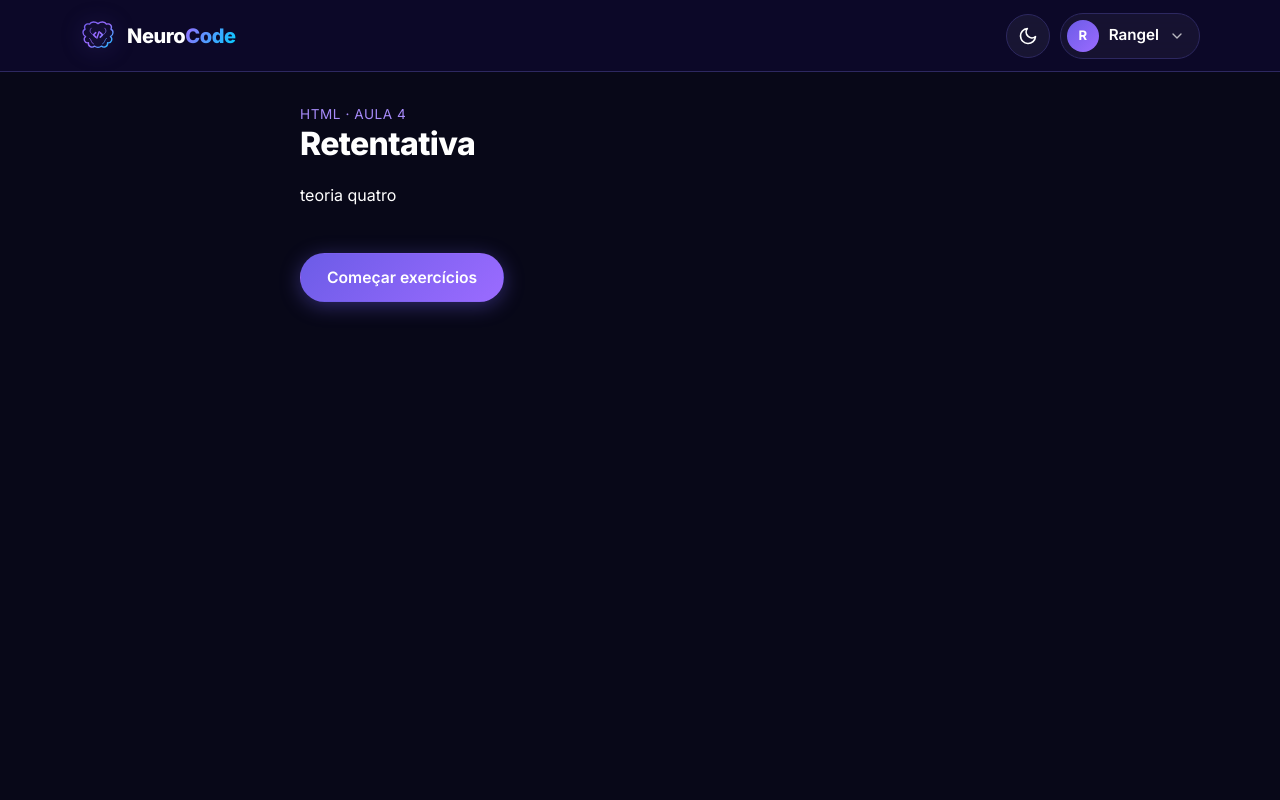
Tela de Aula — sessão de exercícios › errar e avançar reseta o card e permite refazer (não trava)
What coordinates should you click on to do the following:
click the button "Começar exercícios"
I would click on:
 (402, 278)
Its box is [300,253,504,302].
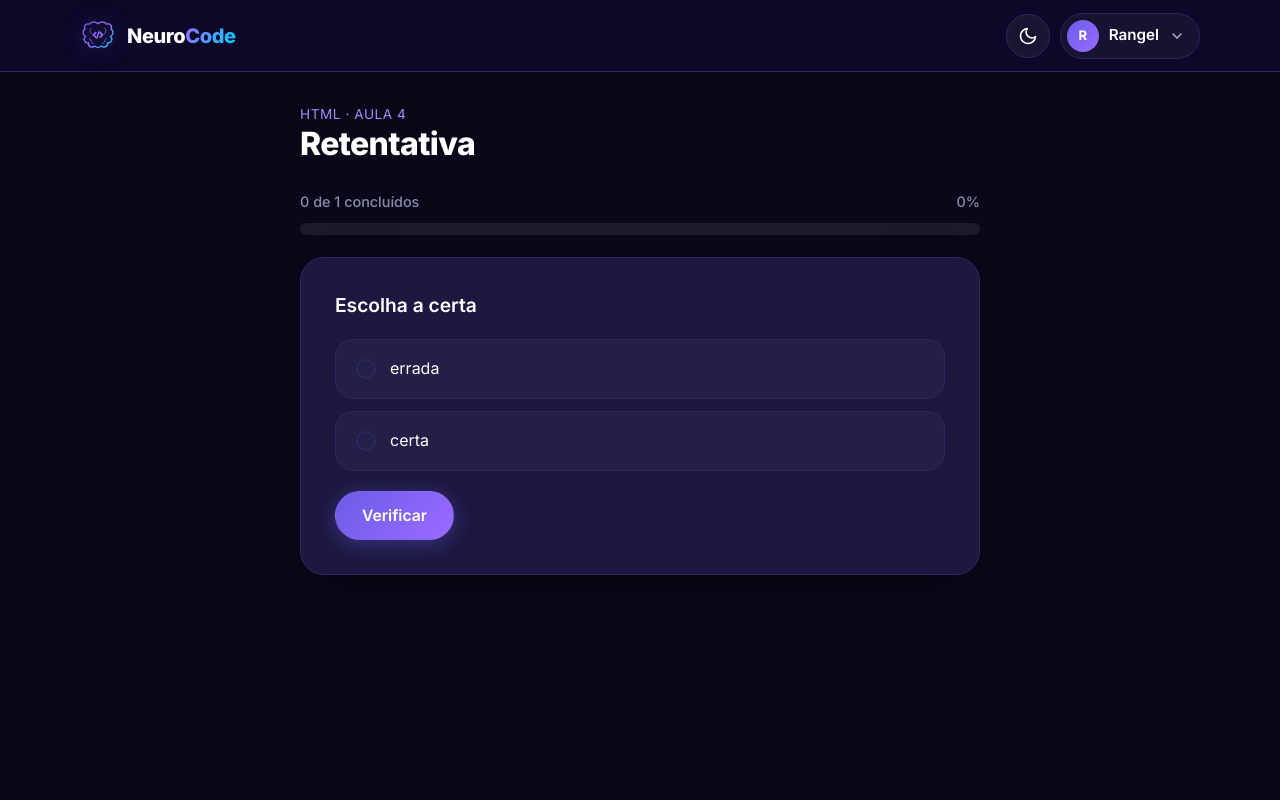
// erra de propósito
What coordinates should you click on to do the following:
click the button "errada"
I would click on:
 (415, 368)
Its box is [335,340,945,399].
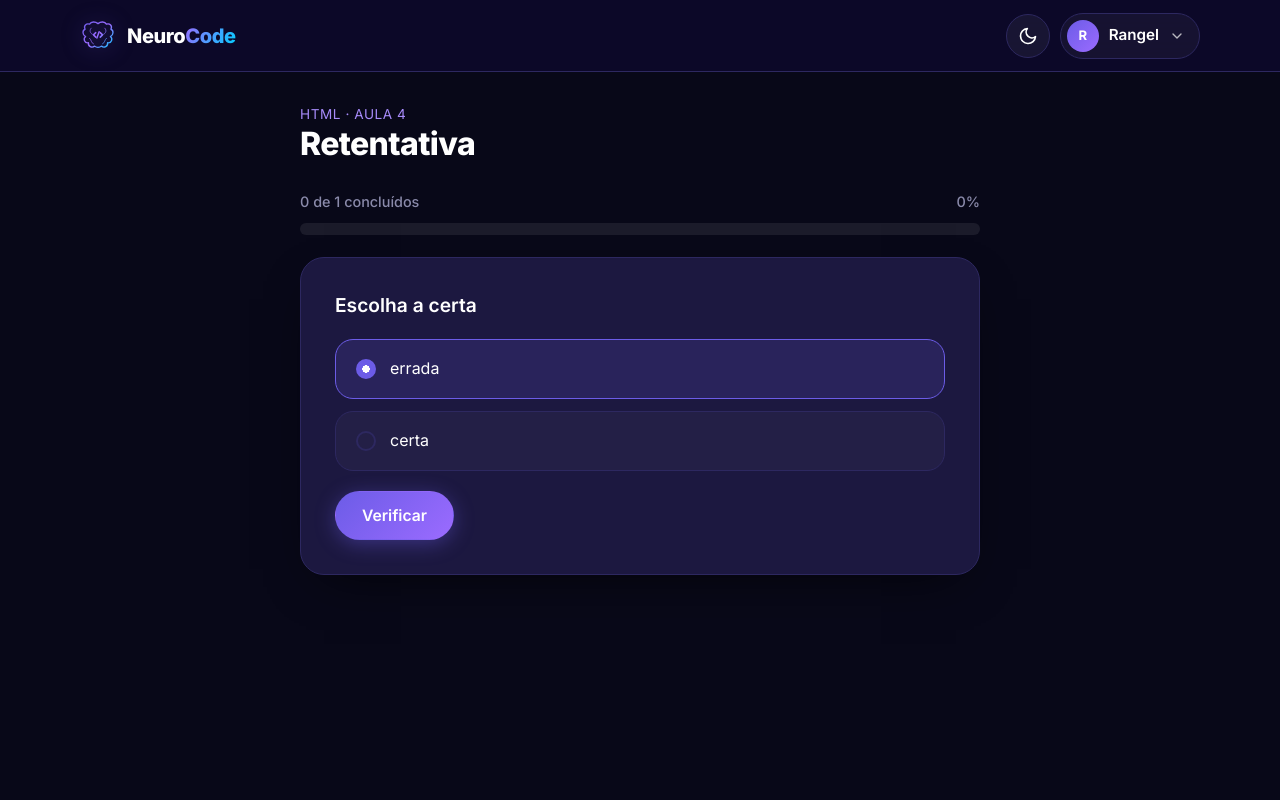
What coordinates should you click on to do the following:
click the button "Verificar"
I would click on:
 (394, 516)
Its box is [335,491,454,540].
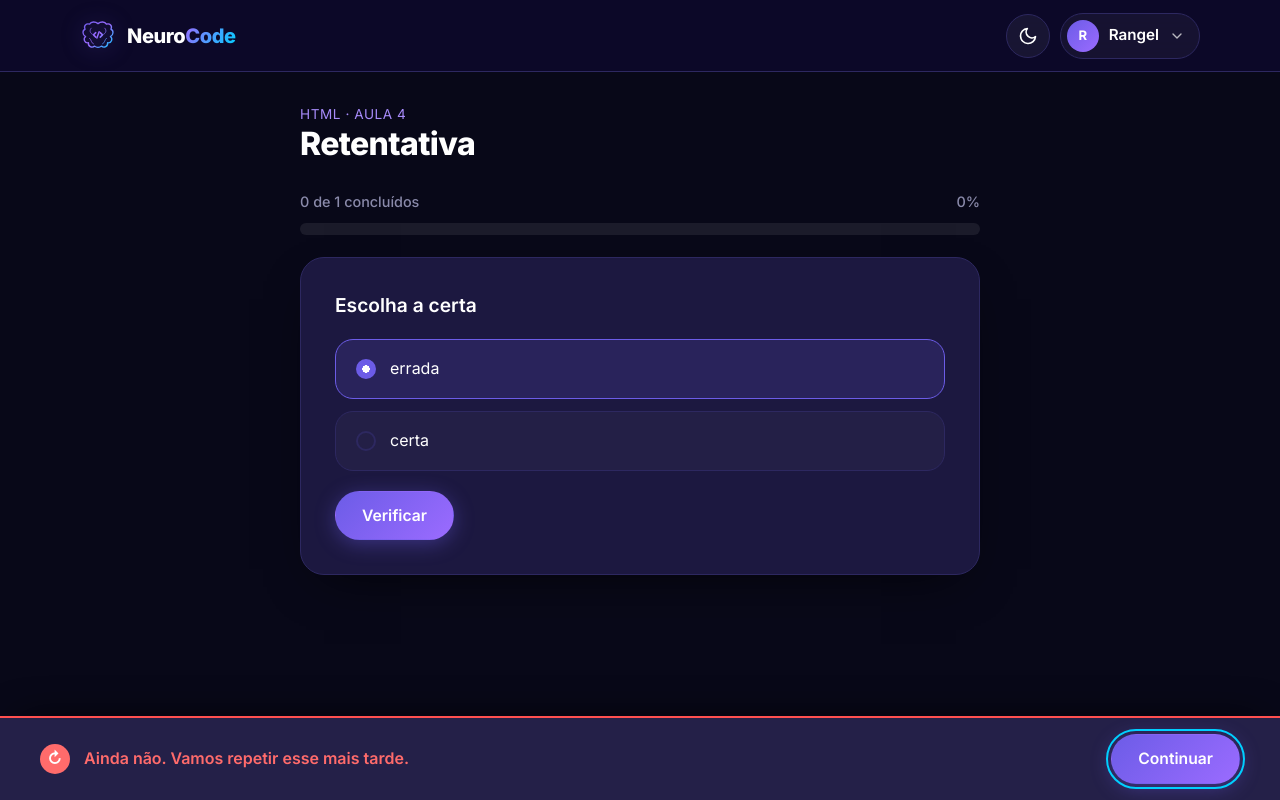
Result: the text "Ainda não. Vamos repetir esse mais tarde." is shown at [84,746,409,772]
// avança: o card precisa voltar limpo (alternativa errada não fica mais marcada)
What coordinates should you click on to do the following:
click the button "Continuar"
I would click on:
 (1176, 759)
Its box is [1111,734,1240,784].
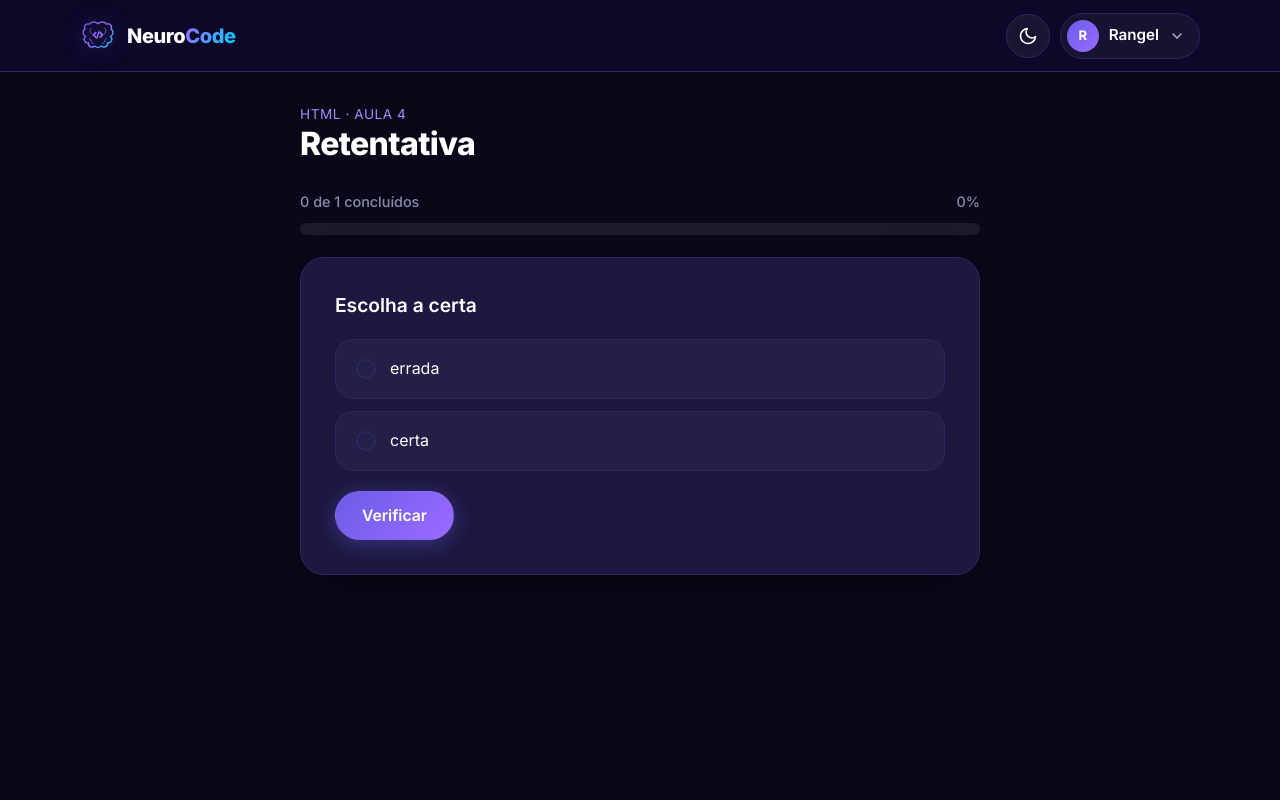
// agora dá pra acertar
What coordinates should you click on to do the following:
click the button "certa"
I would click on:
 (410, 440)
Its box is [335,411,945,471].
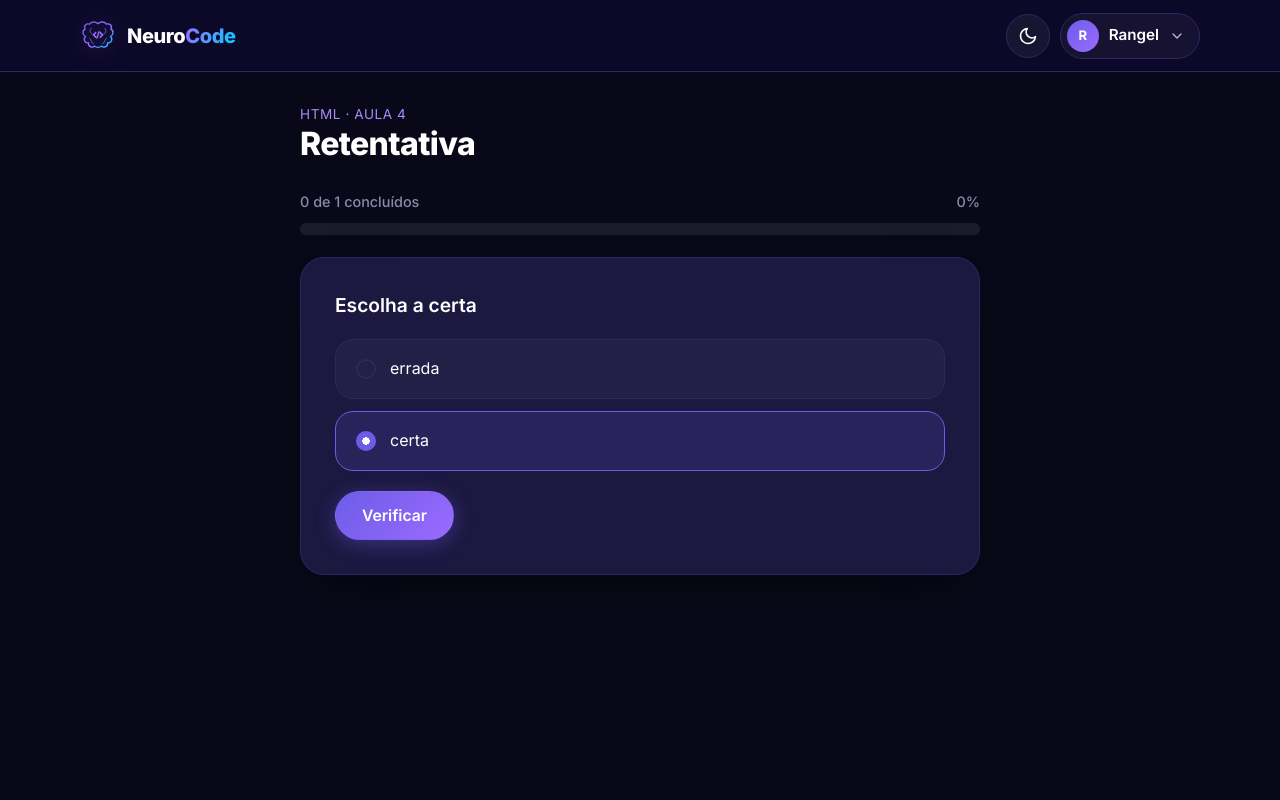
What coordinates should you click on to do the following:
click the button "Verificar"
I would click on:
 (394, 516)
Its box is [335,491,454,540].
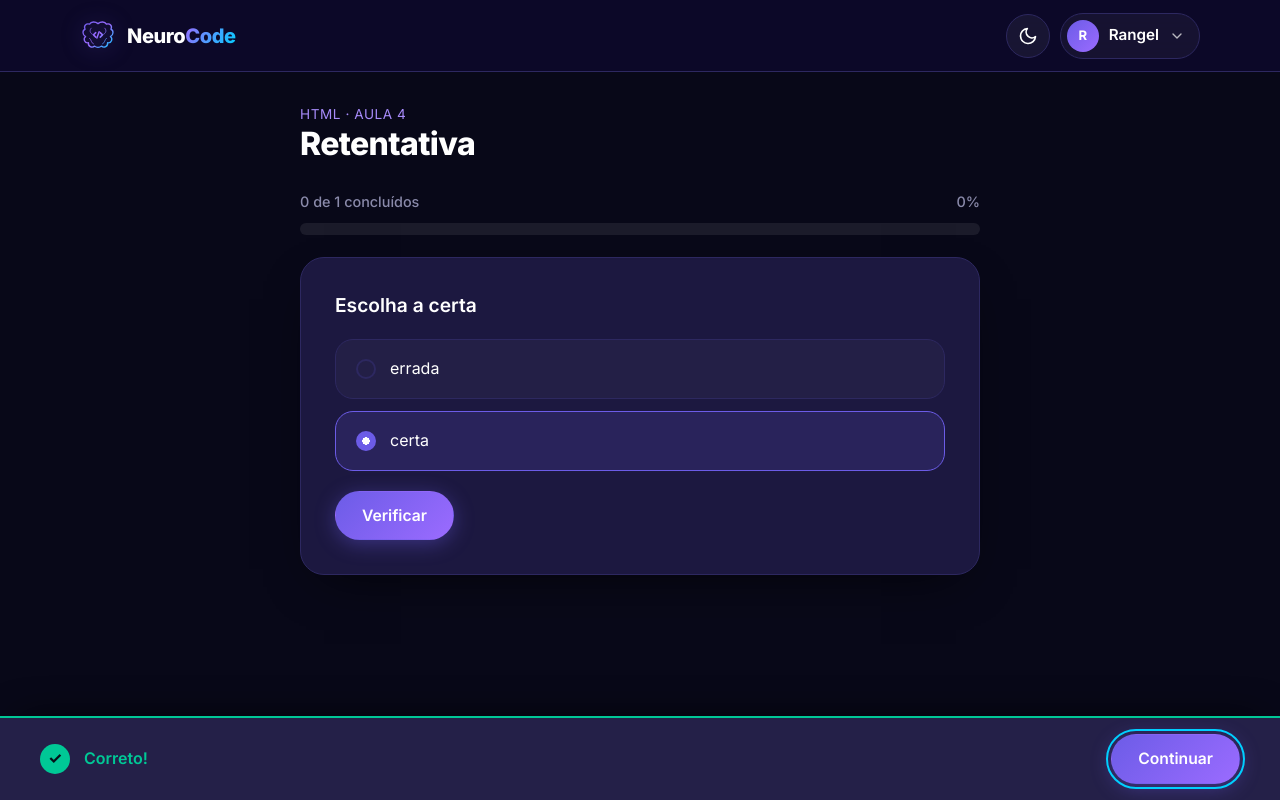
Result: the text "Correto!" is shown at [84,746,148,772]
